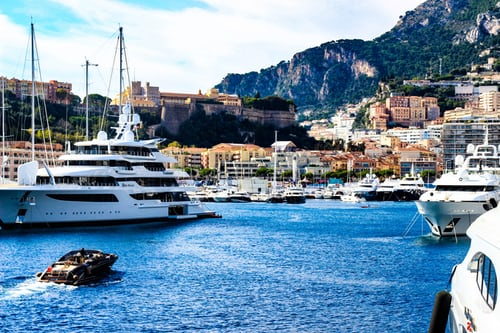yacht: (1, 28, 226, 221)
